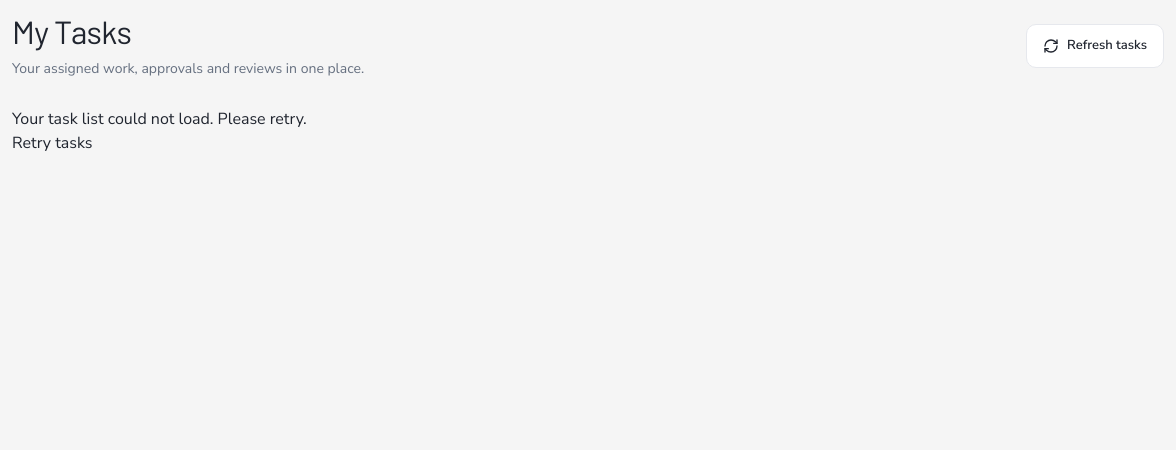
it: request failure offers retry and never announces zero tasks
The width and height of the screenshot is (1176, 450).
Expected: the message "Your task list could not load. Please retry. Retry tasks" is shown, [12,108,307,155]
Expected: the text "No open tasks" is not shown
What coordinates should you click on to do the following:
click the button "Retry tasks"
I would click on:
 (52, 143)
Its box is [12,131,92,155].
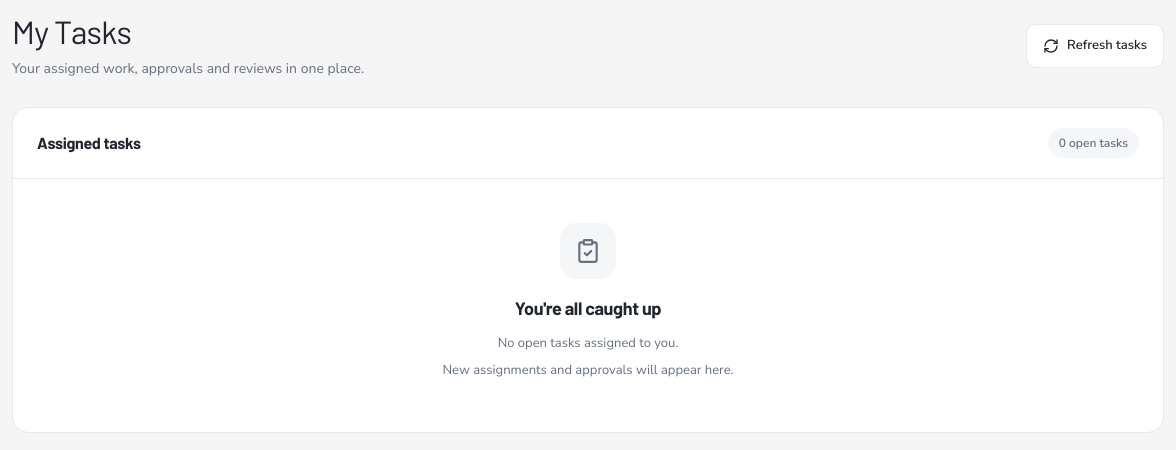
Expected: the text "No open tasks assigned to you" is shown, [498,334,678,352]
